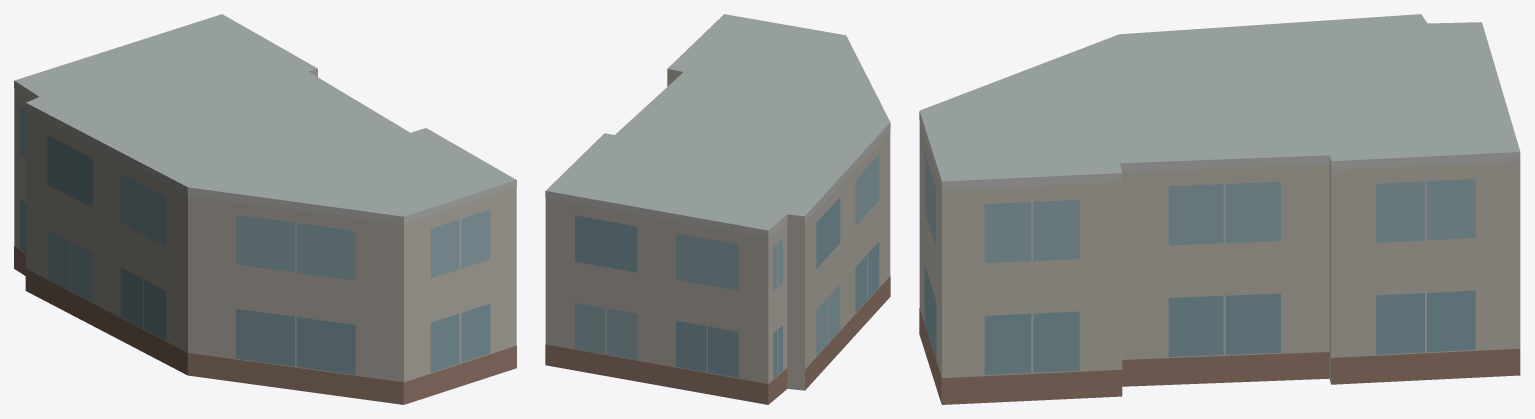
File: survey-upis-32870464.glb
3 views of the same model, side by side, from view 1: azimuth 30°, elevation 25°; view 2: azimuth 150°, elevation 25°; view 3: azimuth 270°, elevation 25° (orthographic). The views are drawn at different scales.
Parts seen in each view (by area): view 1: survey-upis-32870464.tmp; view 2: survey-upis-32870464.tmp; view 3: survey-upis-32870464.tmp.
Part boxes in pixels (<box>): survey-upis-32870464.tmp: <box>14,14,516,404</box>; survey-upis-32870464.tmp: <box>545,14,890,404</box>; survey-upis-32870464.tmp: <box>919,14,1520,404</box>.
Bounding box in the file's own units: 9.81 × 6.1 × 14.88.
